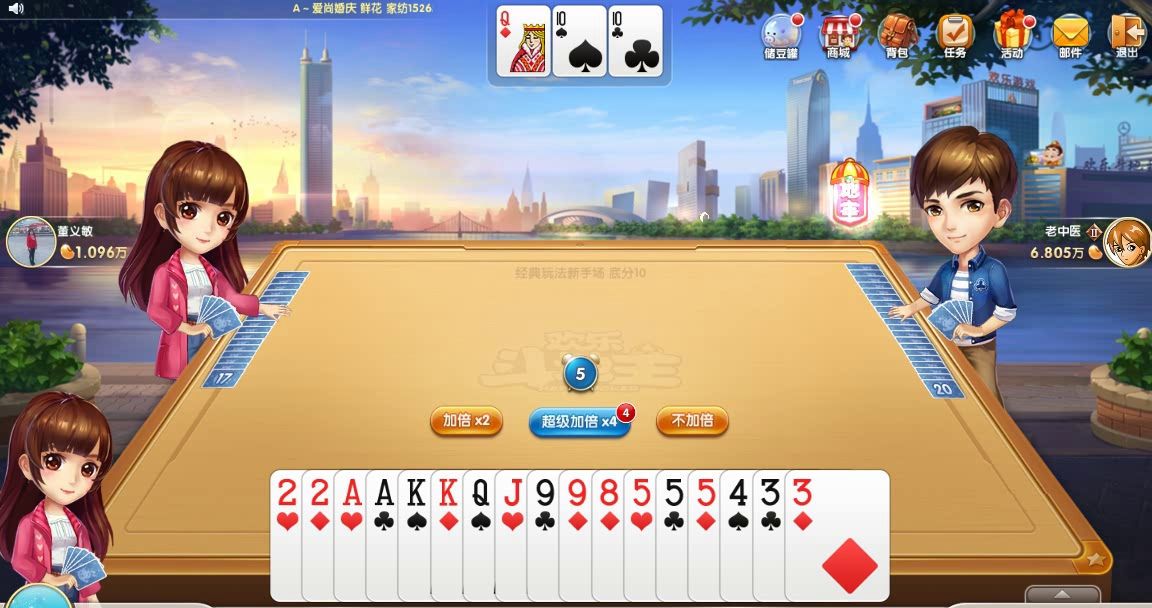10~2: (608, 6, 662, 77)
10~4: (552, 6, 606, 77)
11~3: (494, 469, 598, 601)
12~1: (496, 6, 550, 77)
12~4: (462, 469, 566, 601)
13~1: (431, 469, 535, 601)
13~4: (397, 469, 501, 601)
14~2: (363, 469, 467, 601)
14~3: (332, 469, 436, 601)
15~1: (301, 469, 405, 601)
15~3: (269, 469, 373, 601)
3~1: (785, 470, 889, 602)
3~2: (751, 470, 855, 602)
4~4: (719, 470, 823, 602)
5~1: (687, 468, 791, 600)
5~2: (655, 469, 759, 601)
5~3: (623, 469, 727, 601)
8~1: (590, 469, 694, 601)
9~1: (558, 469, 662, 601)
9~2: (526, 469, 630, 601)
